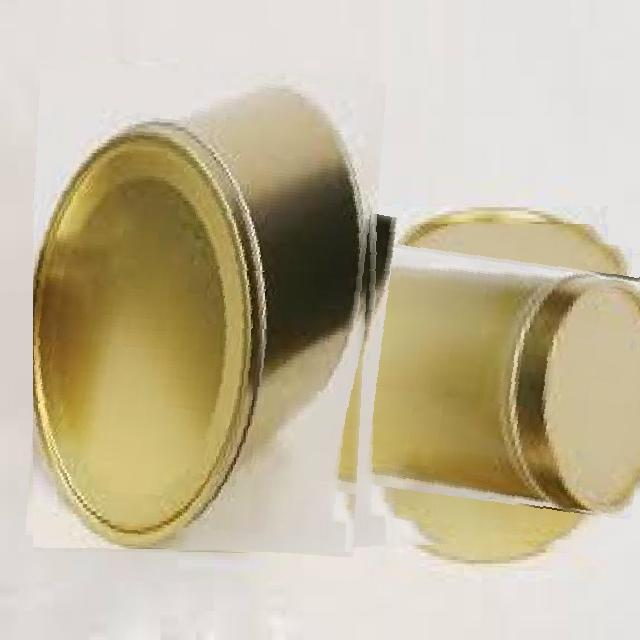recyclable: (33, 65, 378, 552), (325, 224, 640, 548)
